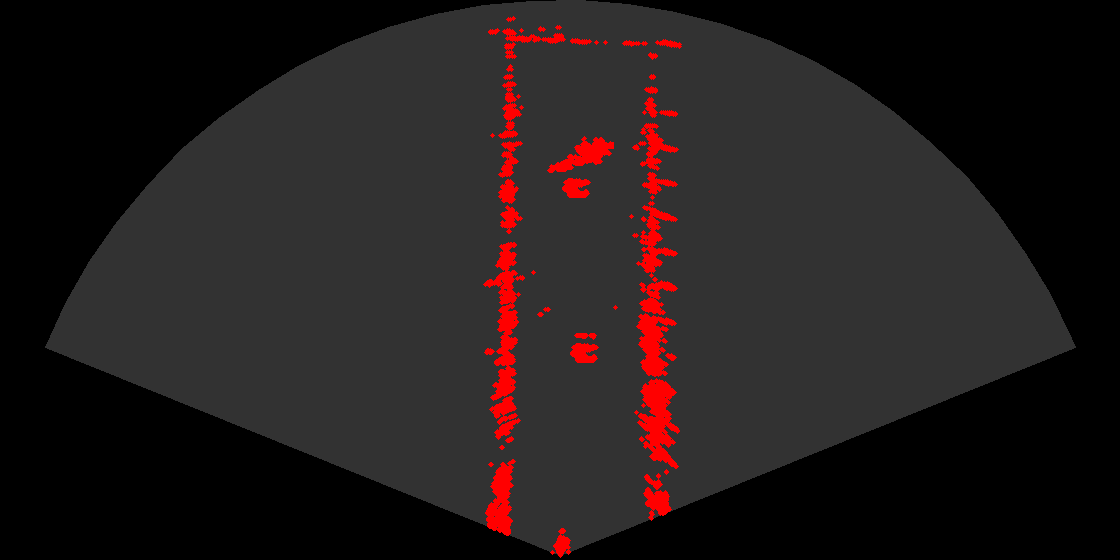ball: (550, 325, 610, 366), (542, 160, 602, 201)
frogman: (546, 130, 614, 177)
